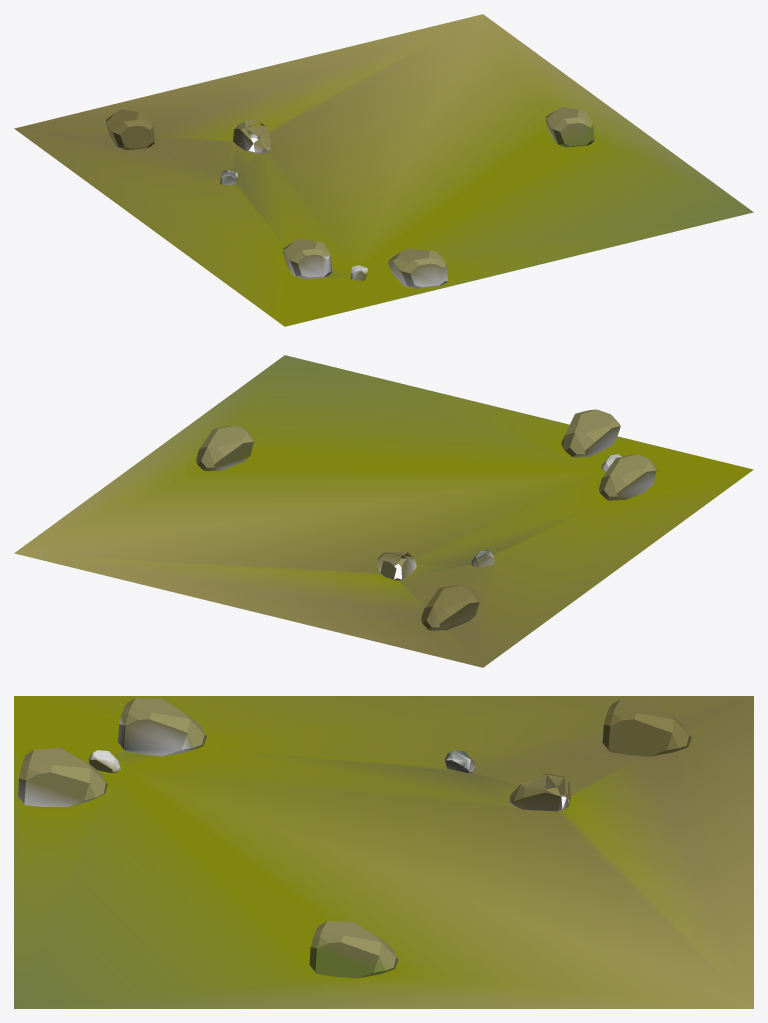
Rendered from tile_1.fbx.
The picture shows the model from 3 angles, top to bottom: view 1: azimuth 30°, elevation 25°; view 2: azimuth 150°, elevation 25°; view 3: azimuth 270°, elevation 25°; orthographic projection. The views are drawn at different scales.
Parts seen in each view (by area): view 1: Cube.492; view 2: Cube.492; view 3: Cube.492.
Part boxes in pixels (x1,y1,x2,y2): Cube.492: (14, 14, 753, 326); Cube.492: (14, 355, 753, 667); Cube.492: (14, 696, 753, 1008).
Bounding box in the file's own units: 400 × 23.52 × 400.
